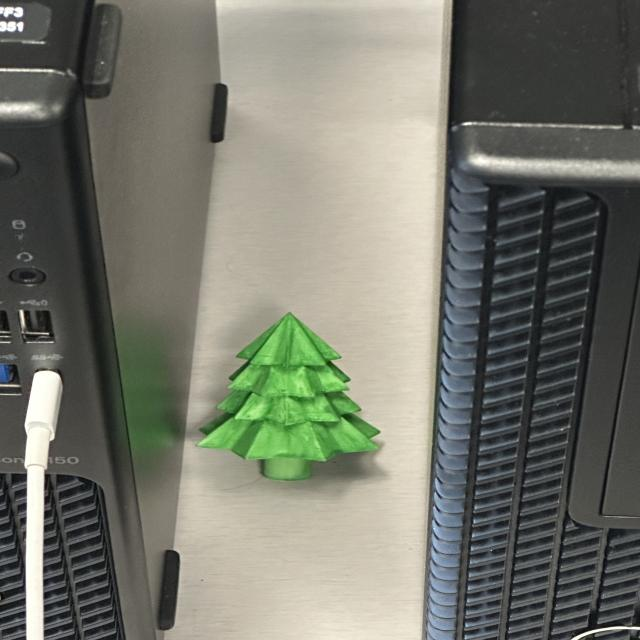tree: (195, 310, 382, 482)
